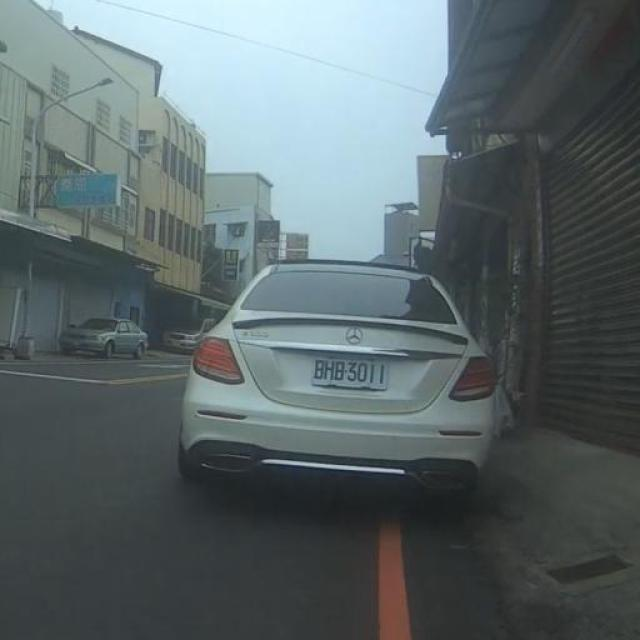Legalparking: (59, 318, 148, 358), (164, 319, 215, 351)
illegalparking: (178, 260, 495, 492)
